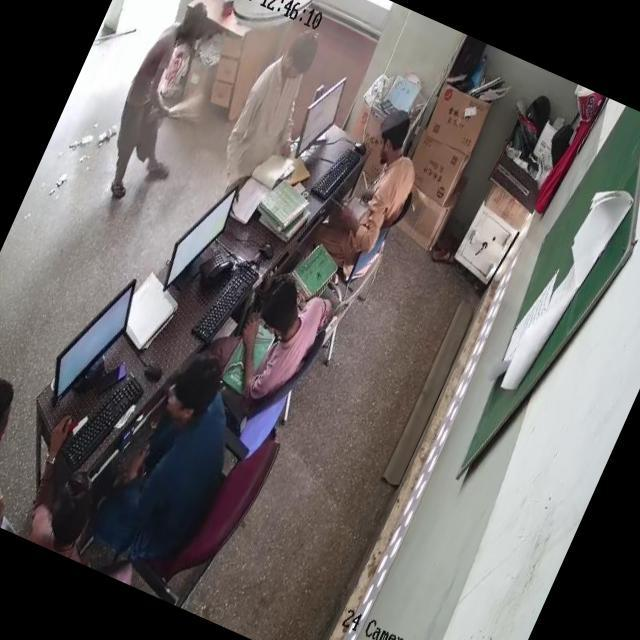person: (100, 350, 250, 556), (88, 6, 207, 218), (204, 14, 321, 200), (0, 416, 122, 560), (332, 102, 436, 266), (219, 269, 339, 409), (0, 370, 59, 529)
